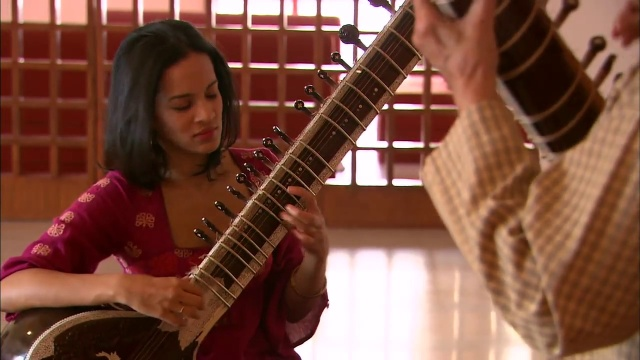person: (0, 20, 326, 342), (6, 17, 240, 289)
